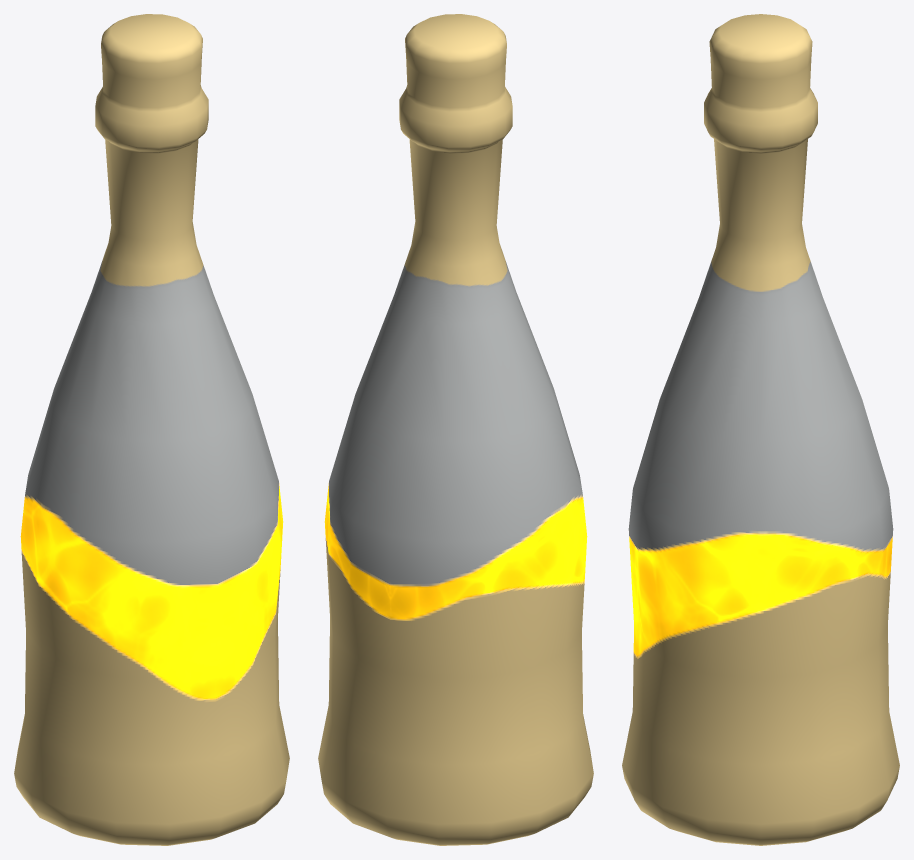
The model's file is BarBottle03_3.FBX.
3 views of the same model, side by side, from view 1: azimuth 30°, elevation 25°; view 2: azimuth 150°, elevation 25°; view 3: azimuth 270°, elevation 25° (orthographic).
Parts seen in each view (by area): view 1: BarBottle03_3; view 2: BarBottle03_3; view 3: BarBottle03_3.
Boxes of the visible parts, x1,y1,x2,y2 form: BarBottle03_3: (14,14,289,845); BarBottle03_3: (318,14,593,845); BarBottle03_3: (622,14,899,845).
Size of what is drawn, in the model's own units: 0.112 by 0.34 by 0.112.
